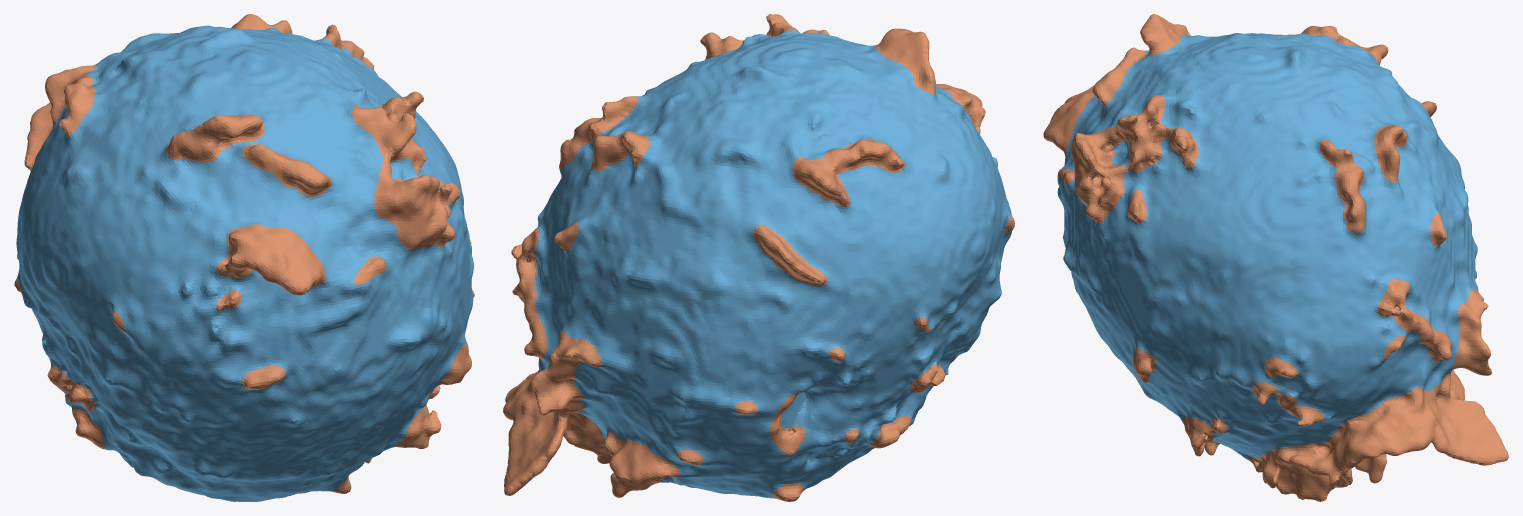
3 renders of one model, left to right at view 1: azimuth 30°, elevation 25°; view 2: azimuth 150°, elevation 25°; view 3: azimuth 270°, elevation 25°, orthographic. The views are drawn at different scales.
Bounding box in the file's own units: 127 × 126 × 136.
